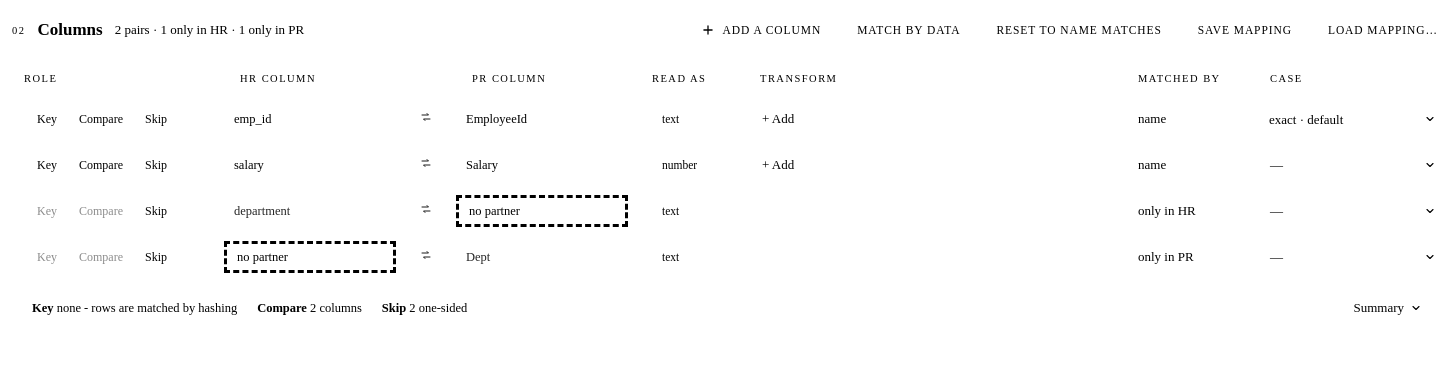
it: a table changed since is said, and fetched again
The width and height of the screenshot is (1452, 376).
Select "date" in the dropdown named "Type, row 1": (693, 119) [652, 106, 734, 132]
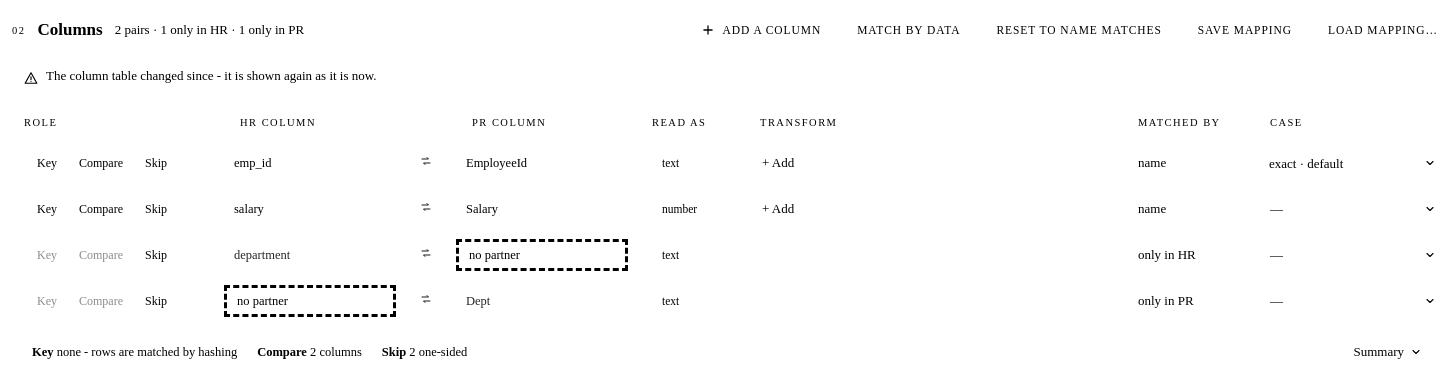
Result: the message shows "The column table changed since" at [46, 68, 377, 83]
